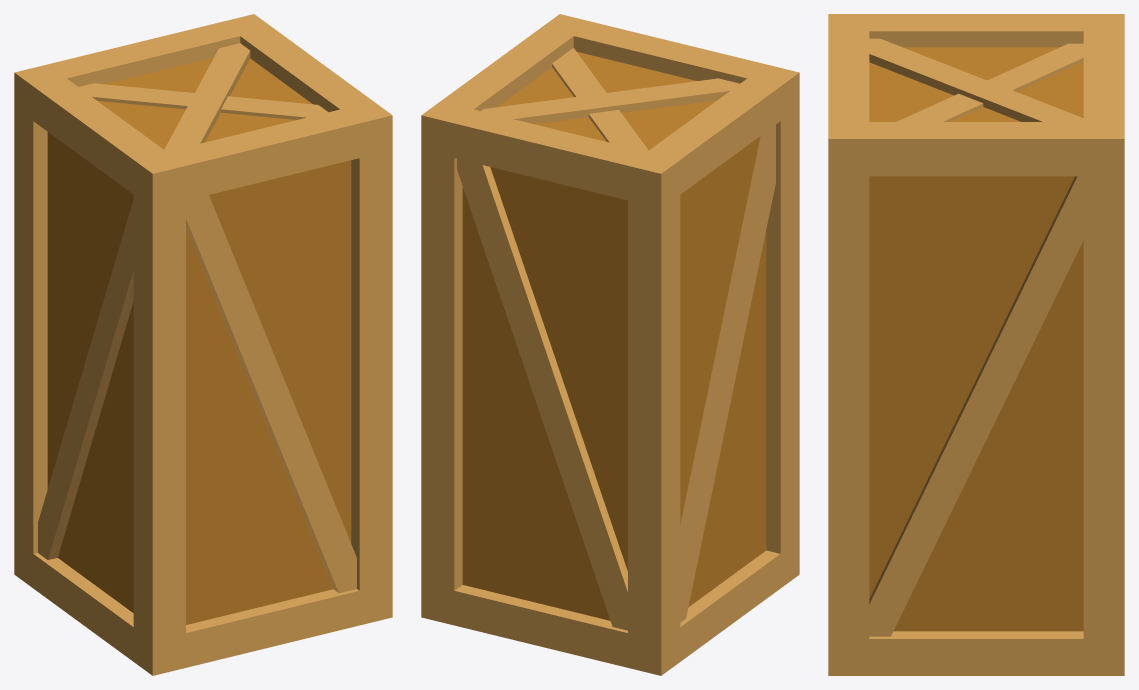
Rendered from Crate_Large.fbx.
3 renders of one model, left to right at view 1: azimuth 30°, elevation 25°; view 2: azimuth 150°, elevation 25°; view 3: azimuth 270°, elevation 25°, orthographic. The views are drawn at different scales.
Visible parts, largest first — view 1: Cube; view 2: Cube; view 3: Cube.
Part boxes in pixels (bbox=[...]): Cube: bbox=[14, 14, 392, 675]; Cube: bbox=[421, 14, 799, 675]; Cube: bbox=[828, 14, 1124, 675].
Bounding box in the file's own units: 200 × 400 × 200.
